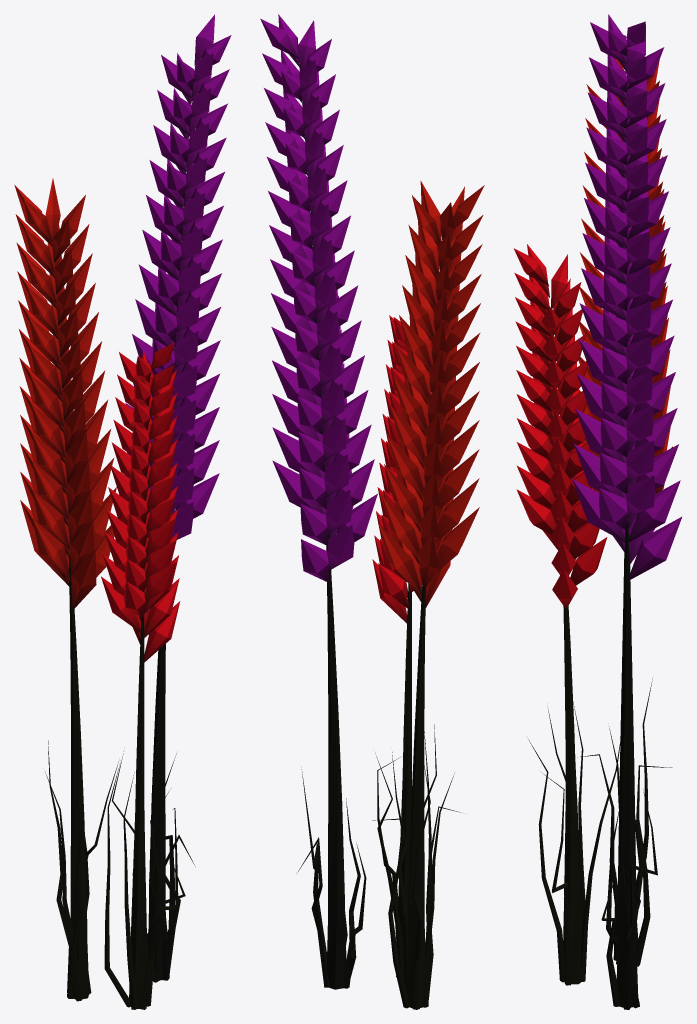
The model's file is Plant-M-4.fbx.
3 renders of one model, left to right at view 1: azimuth 30°, elevation 25°; view 2: azimuth 150°, elevation 25°; view 3: azimuth 270°, elevation 25°, orthographic. The views are drawn at different scales.
Visible parts, largest first — view 1: OUT-Plant; view 2: OUT-Plant; view 3: OUT-Plant.
Boxes of the visible parts, x1,y1,x2,y2 form: OUT-Plant: [14, 14, 231, 1009]; OUT-Plant: [260, 14, 484, 1009]; OUT-Plant: [514, 14, 681, 1009].
Size of the model in its own units: 0.2384 by 1.04 by 0.1562.
